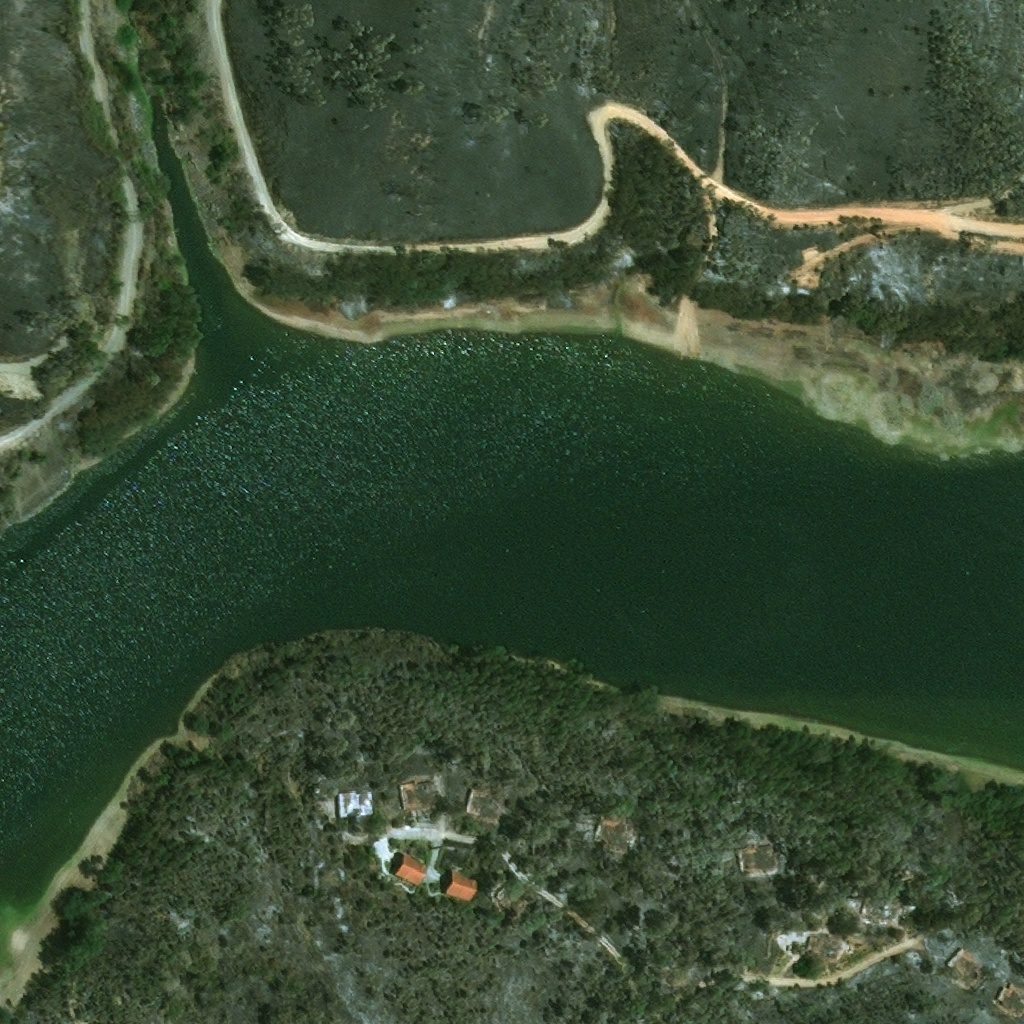0 no-damage: (389, 854, 427, 886), (441, 871, 477, 903)
3 destroyed: (741, 838, 787, 873), (947, 949, 986, 990), (468, 788, 510, 823), (401, 776, 444, 810), (495, 887, 533, 919), (336, 788, 373, 819), (806, 933, 844, 963), (605, 819, 640, 845), (996, 982, 1023, 1015), (871, 892, 904, 917)
